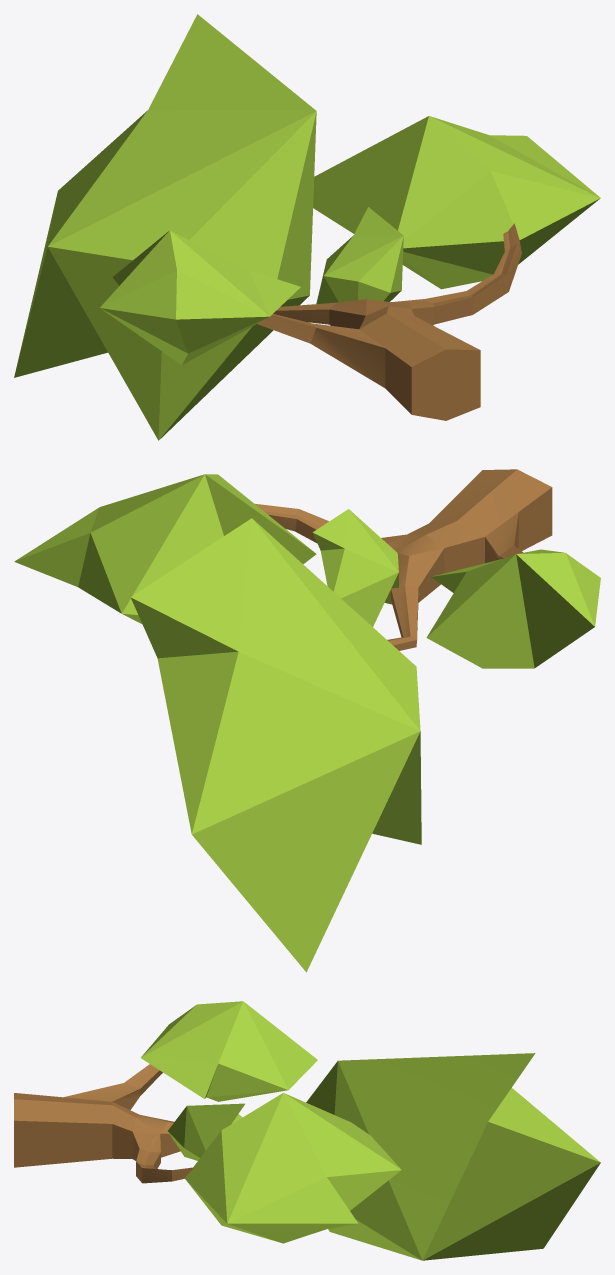
The model's file is tree2.dae.
The picture shows the model from 3 angles, top to bottom: view 1: azimuth 30°, elevation 25°; view 2: azimuth 150°, elevation 25°; view 3: azimuth 270°, elevation 25°; orthographic projection. The views are drawn at different scales.
Parts seen in each view (by area): view 1: Green, Brown; view 2: Green, Brown; view 3: Green, Brown.
Boxes of the visible parts, box(x1,y1,x2,y2) form: Green: box(14, 14, 600, 440); Brown: box(257, 223, 521, 420); Green: box(14, 474, 600, 972); Brown: box(255, 469, 552, 650); Green: box(141, 1001, 600, 1260); Brown: box(14, 1064, 193, 1183).
Bounding box in the file's own units: 0.9703 × 1.19 × 0.5997.
